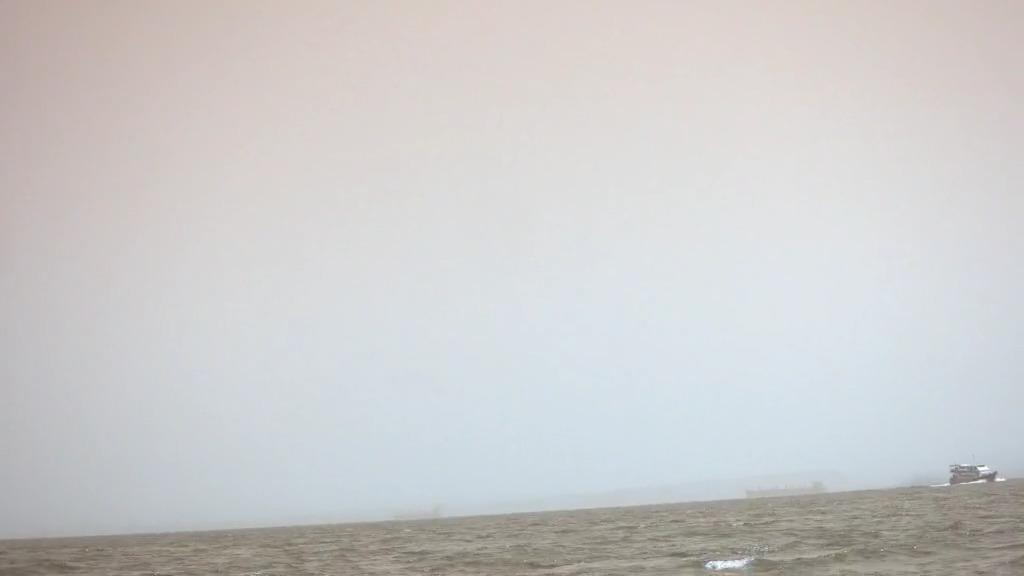PassengerShip: (944, 460, 1000, 484)
